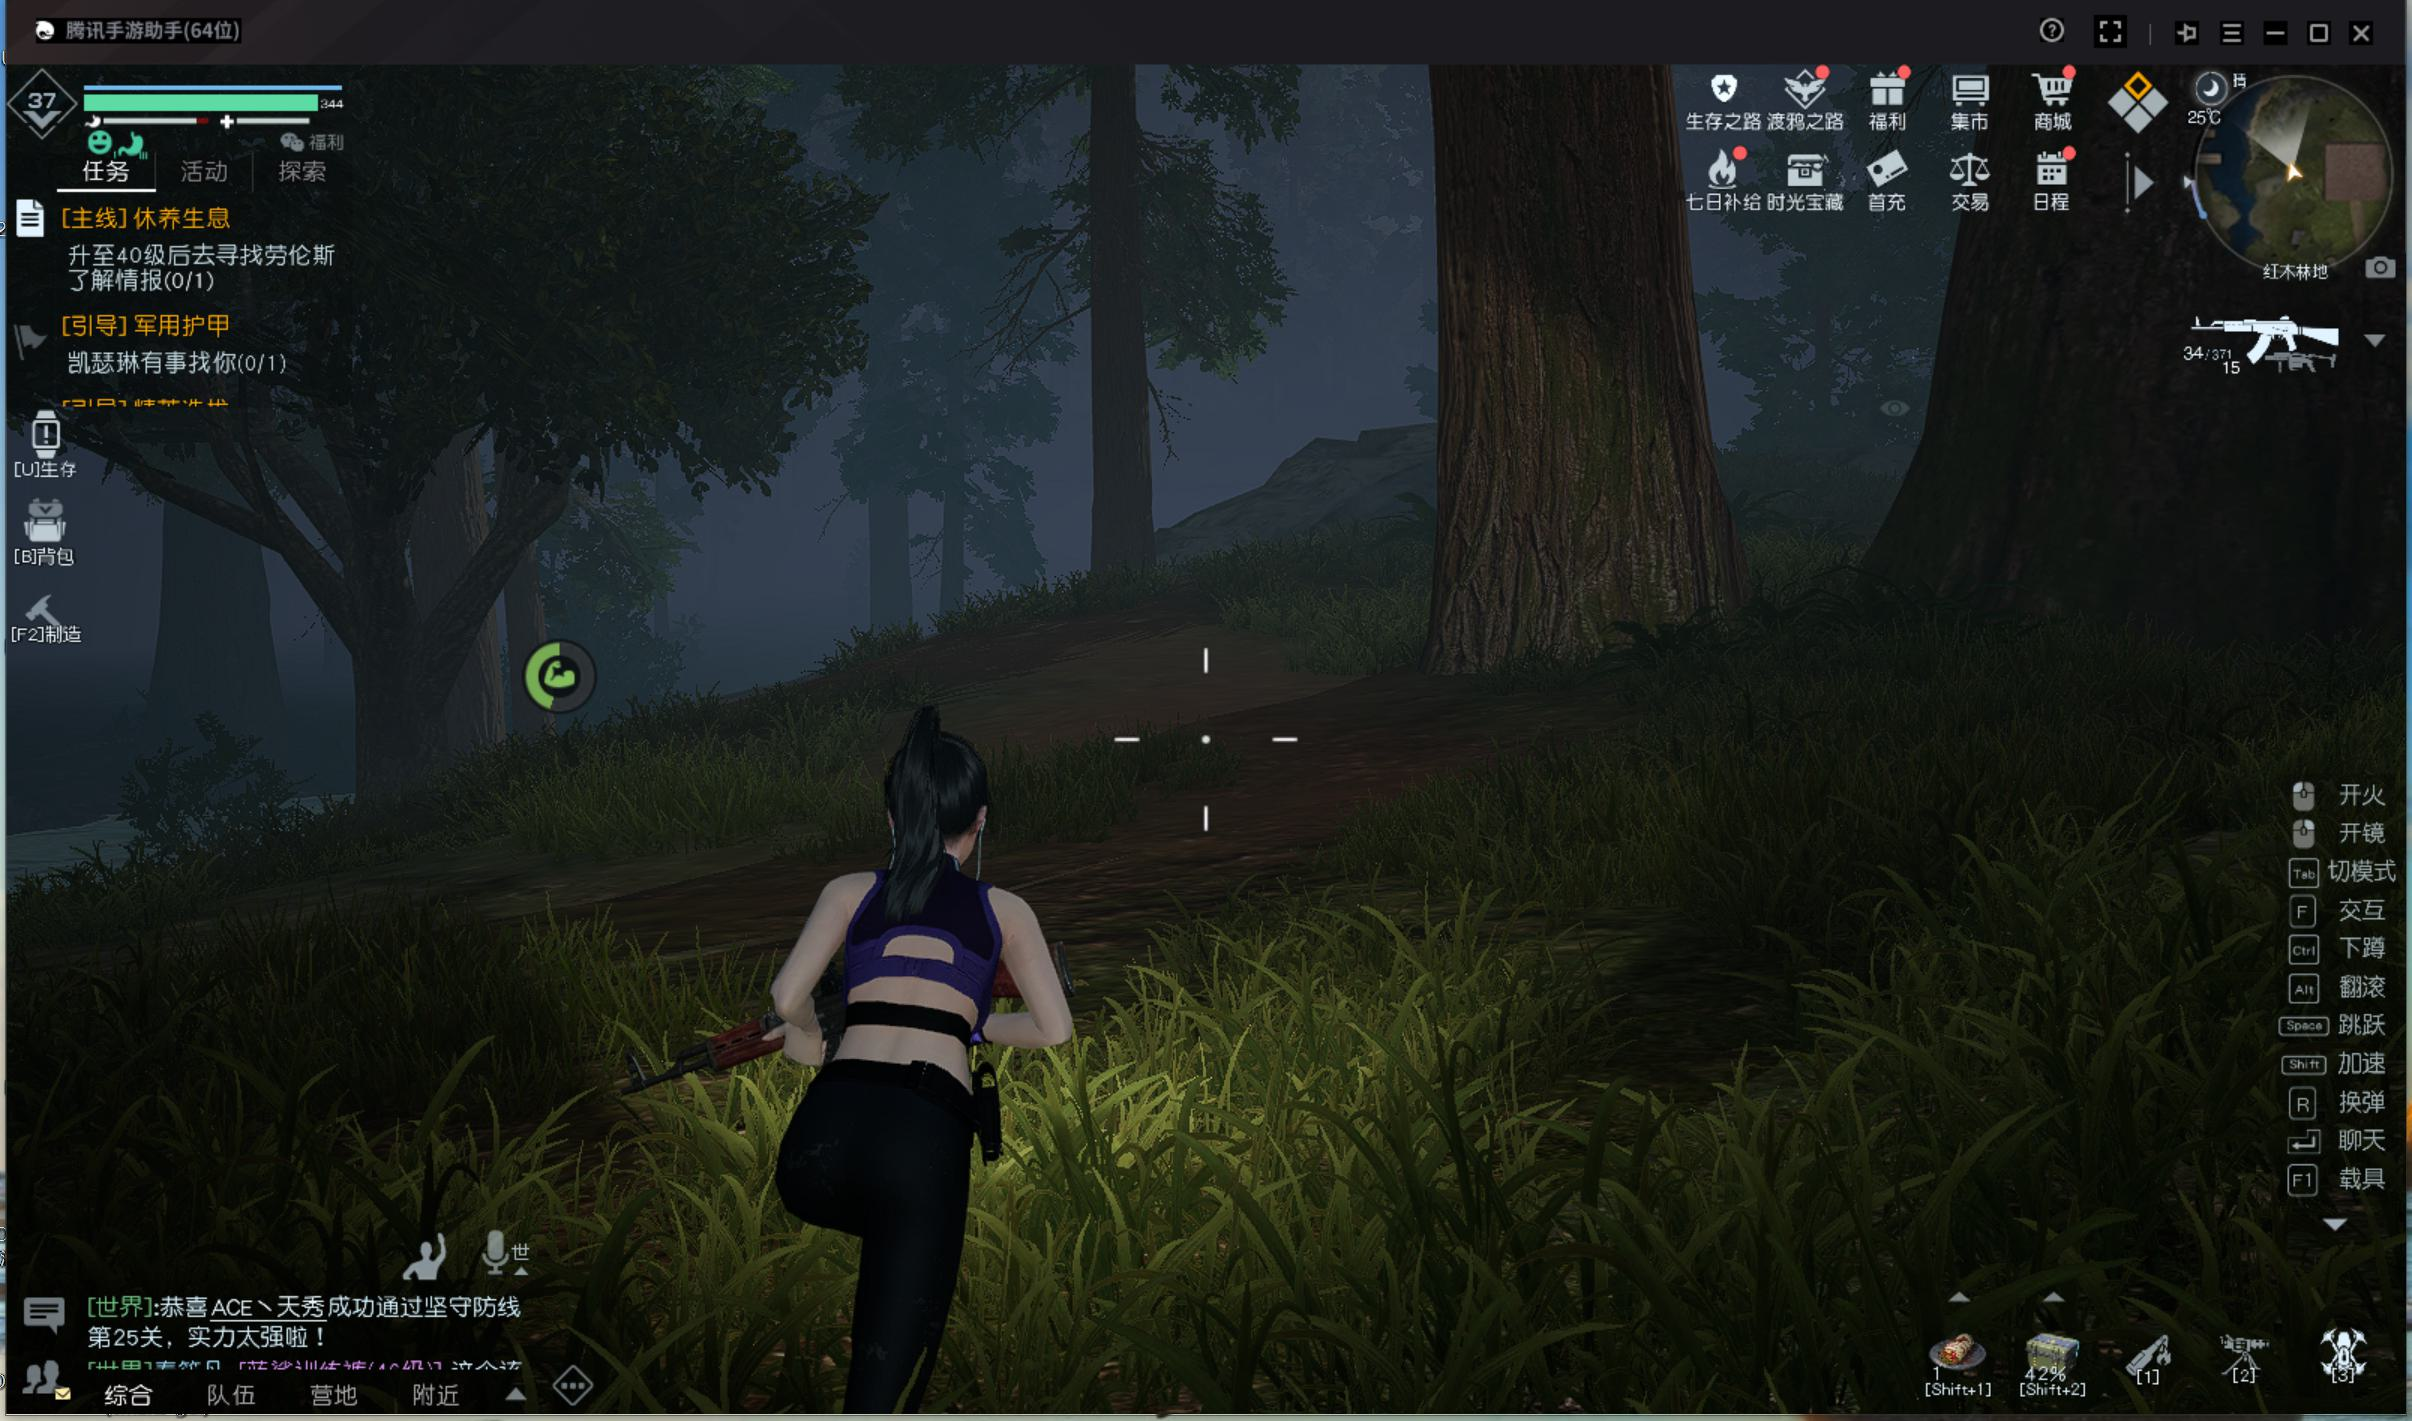tree: (1390, 152, 1740, 702), (1076, 250, 1159, 611), (863, 414, 922, 661), (937, 447, 968, 650)
